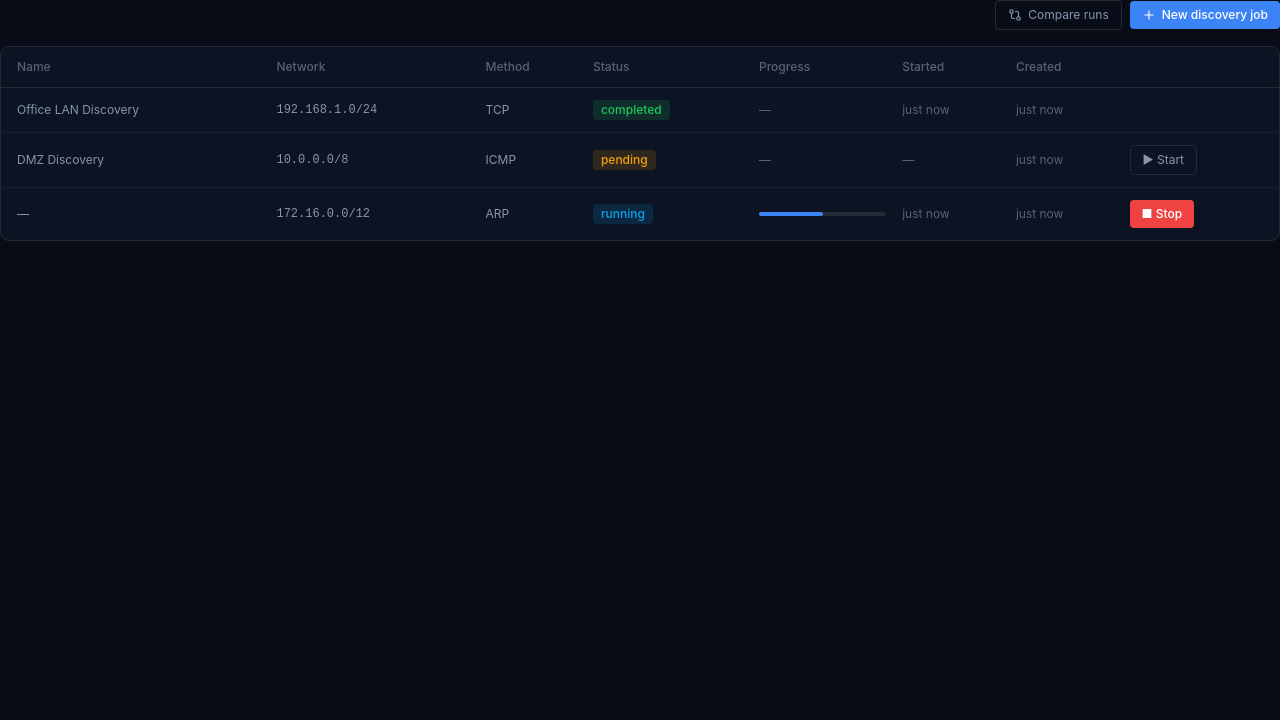
Scenario: DiscoveryPage › Changes tab is disabled for non-completed jobs
Click the row "DMZ Discovery 10.0.0.0/8 ICMP pending — — just now ▶ Start" at [640, 160], box [1,132,1279,188]
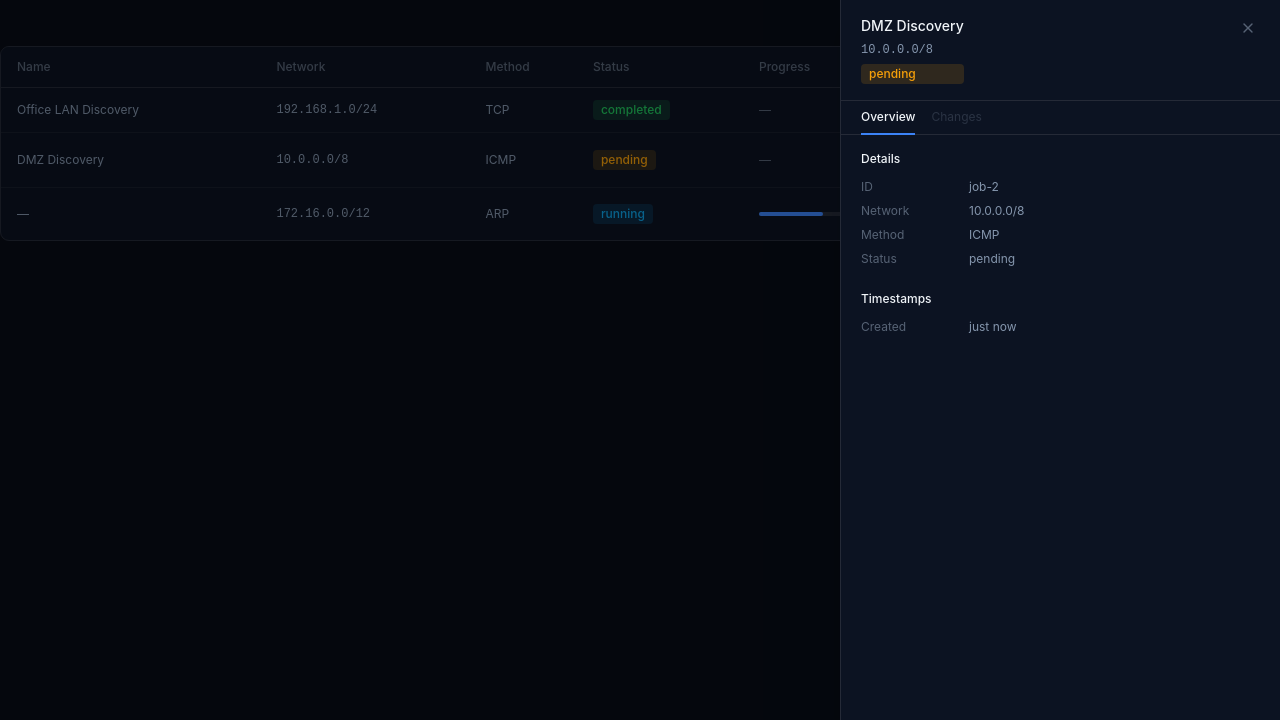
Result: the button "Changes" is disabled at [932,101,982,135]
